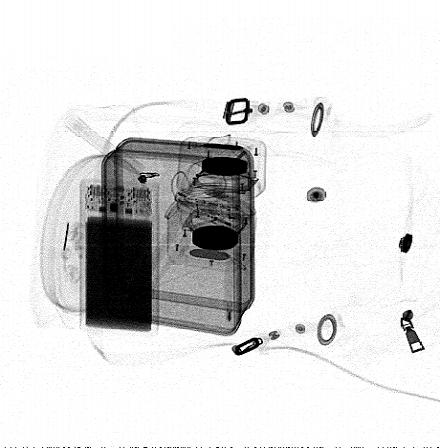Powerbank: (79, 179, 160, 334)
